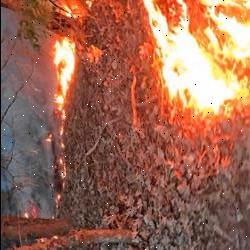fire: (33, 0, 250, 138)
